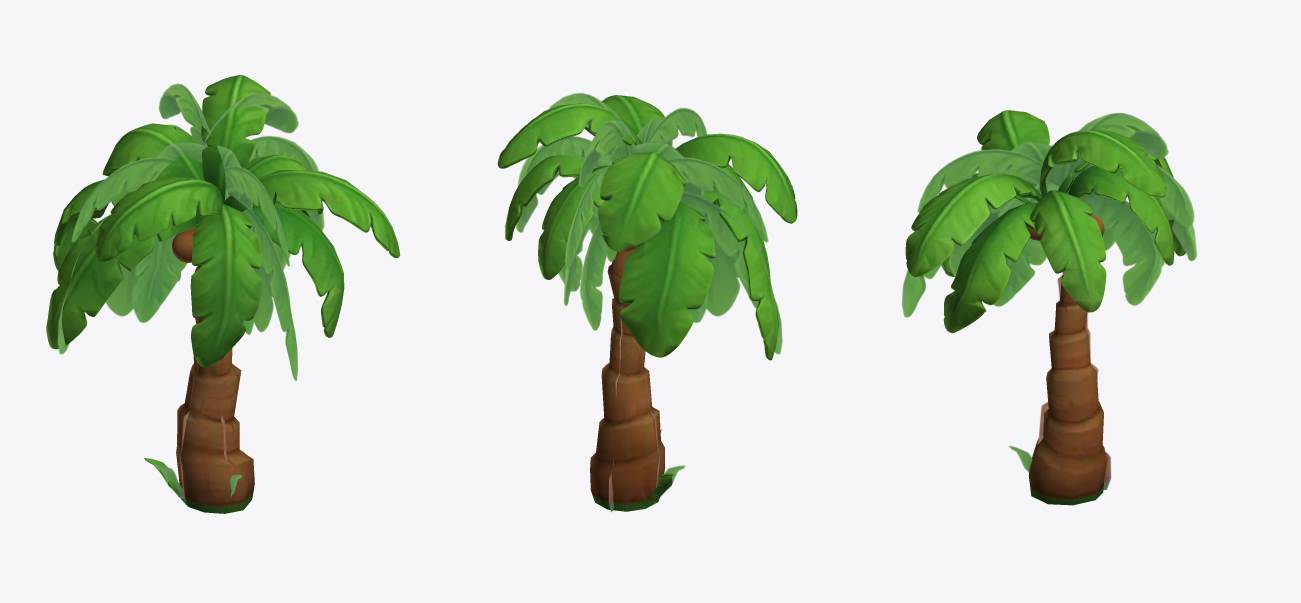
File: tree.m.glb
3 views of the same model, side by side, from view 1: azimuth 30°, elevation 25°; view 2: azimuth 150°, elevation 25°; view 3: azimuth 270°, elevation 25° (orthographic). The views are drawn at different scales.
Parts seen in each view (by area): view 1: TREE_LOD0, TREE_IMPOSTOR; view 2: TREE_LOD0, TREE_IMPOSTOR; view 3: TREE_LOD0, TREE_IMPOSTOR.
Part boxes in pixels (<box>): TREE_LOD0: <box>46,75,400,513</box>; TREE_IMPOSTOR: <box>57,83,324,504</box>; TREE_LOD0: <box>497,95,797,511</box>; TREE_IMPOSTOR: <box>515,93,782,511</box>; TREE_LOD0: <box>905,110,1185,505</box>; TREE_IMPOSTOR: <box>901,113,1197,490</box>.
Bounding box in the file's own units: 1.04 × 1.04 × 1.04.
Materials: 2 (2 with a texture image).
